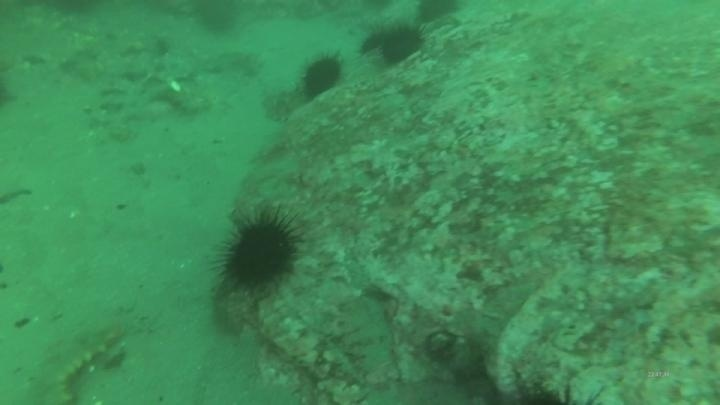echinus: (214, 207, 304, 295), (297, 51, 345, 101), (375, 22, 427, 68), (190, 1, 243, 37), (414, 0, 463, 25)
holothurian: (29, 317, 128, 405)
